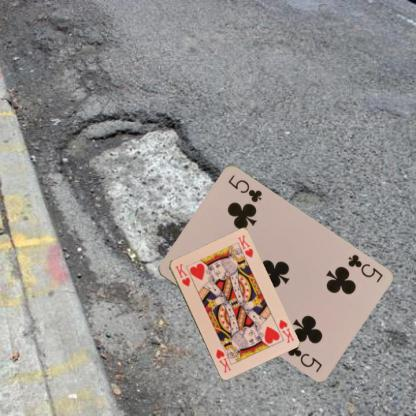5c: (345, 252, 384, 284)
Kh: (172, 261, 191, 288), (276, 317, 295, 344)
